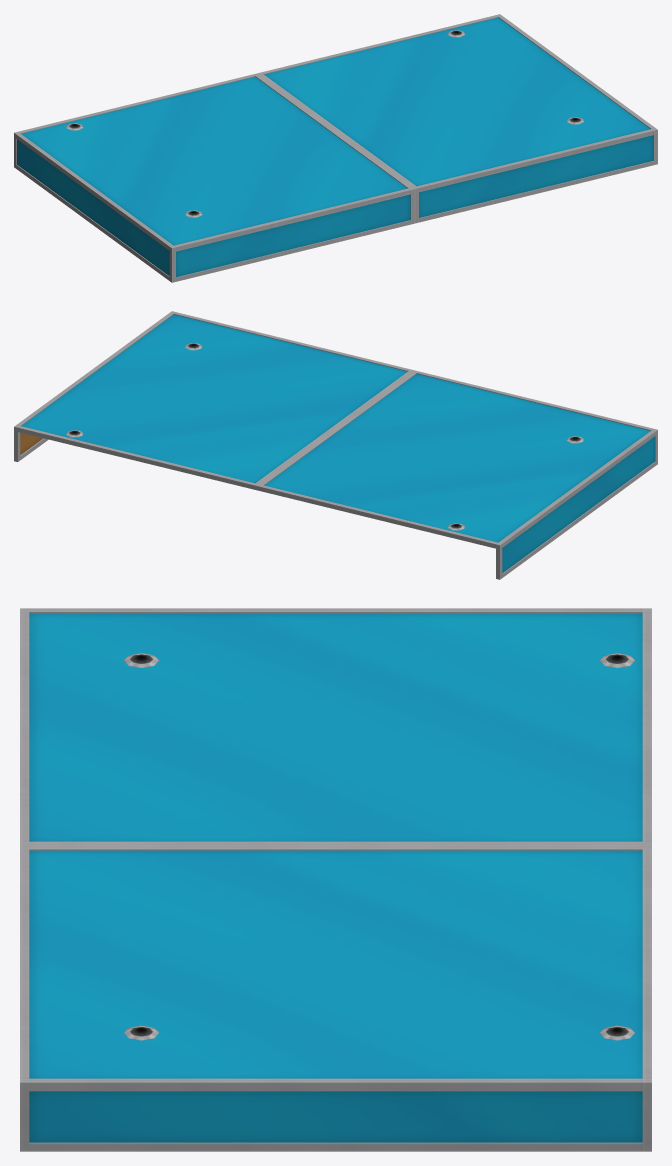
The model's file is jsf_4P_s01_c02_t01_DX.fbx.
The picture shows the model from 3 angles, top to bottom: view 1: azimuth 30°, elevation 25°; view 2: azimuth 150°, elevation 25°; view 3: azimuth 270°, elevation 25°; orthographic projection. The views are drawn at different scales.
Parts seen in each view (by area): view 1: jsf_4P_s01_c02_t01_DX; view 2: jsf_4P_s01_c02_t01_DX; view 3: jsf_4P_s01_c02_t01_DX.
Boxes of the visible parts, x1,y1,x2,y2 form: jsf_4P_s01_c02_t01_DX: (14,14,657,282); jsf_4P_s01_c02_t01_DX: (14,311,657,579); jsf_4P_s01_c02_t01_DX: (20,608,651,1151).
Size of the model in its own units: 184 by 12.99 by 104.
